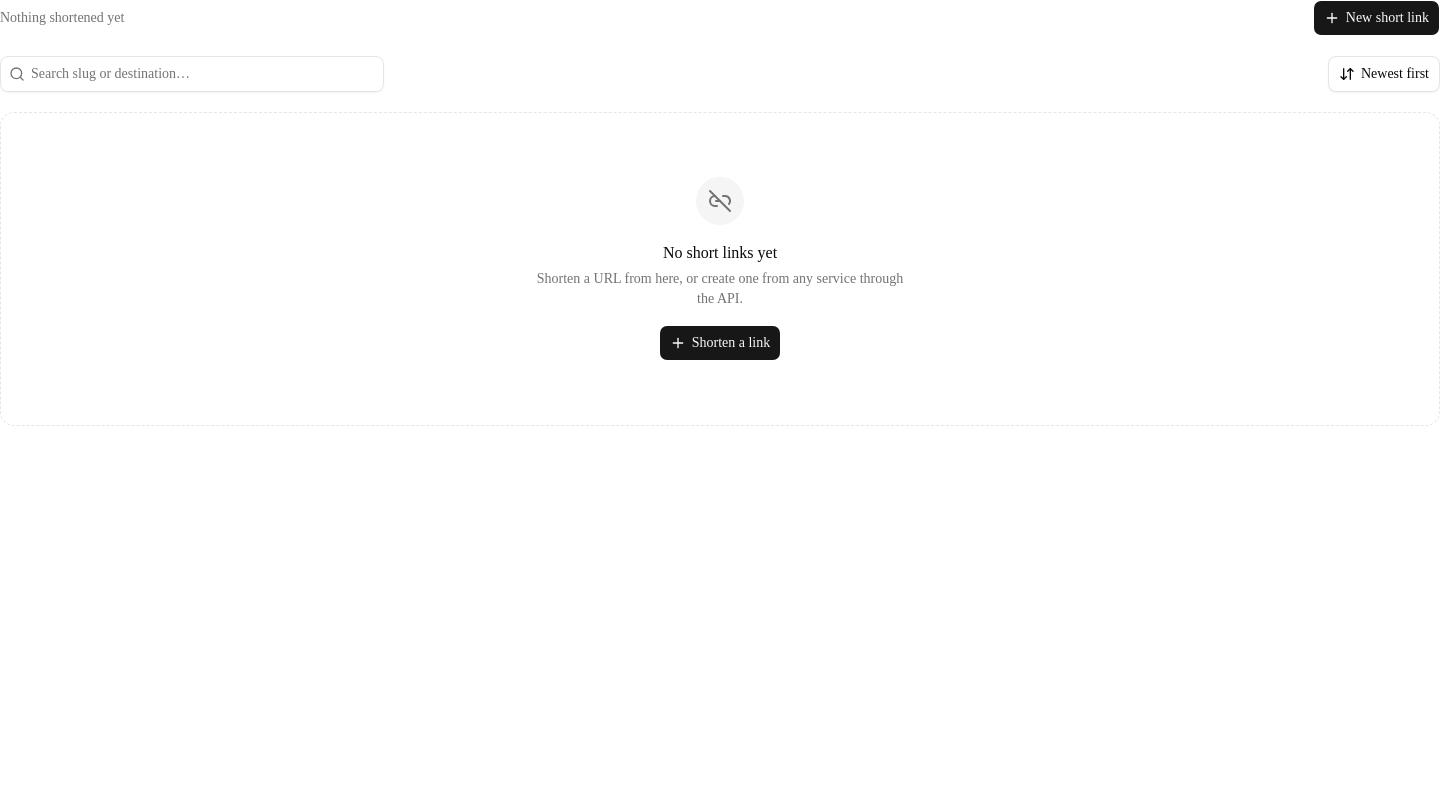
Scenario: LinksView › refuses a destination that is not an http url
This screenshot has width=1440, height=810.
Step 1. Click the button "New short link" → point(1376, 18), box [1313,0,1439,36]
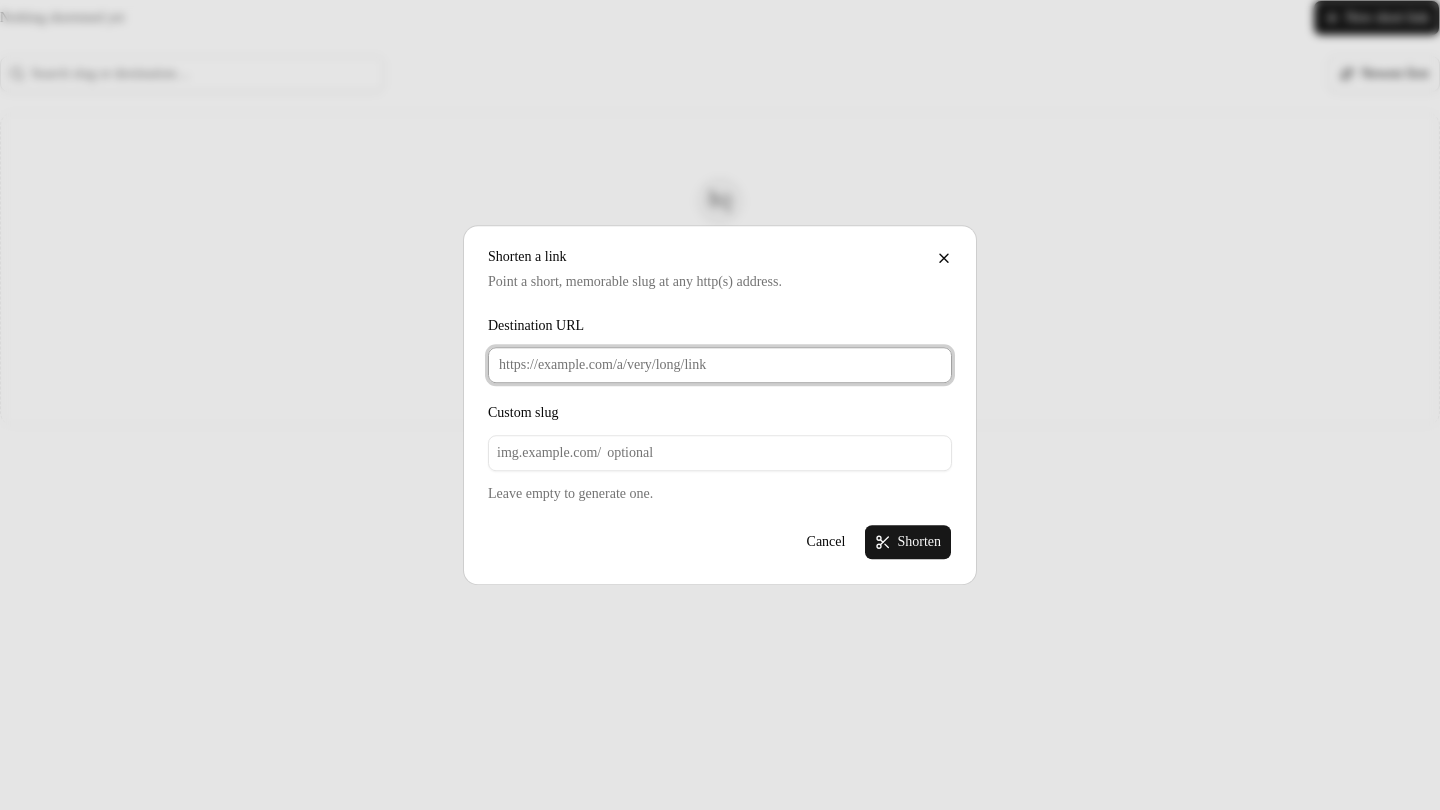
Step 2. Type "javascript:alert(1)" into the field labelled "Destination URL" → point(720, 366), box [488,348,952,384]
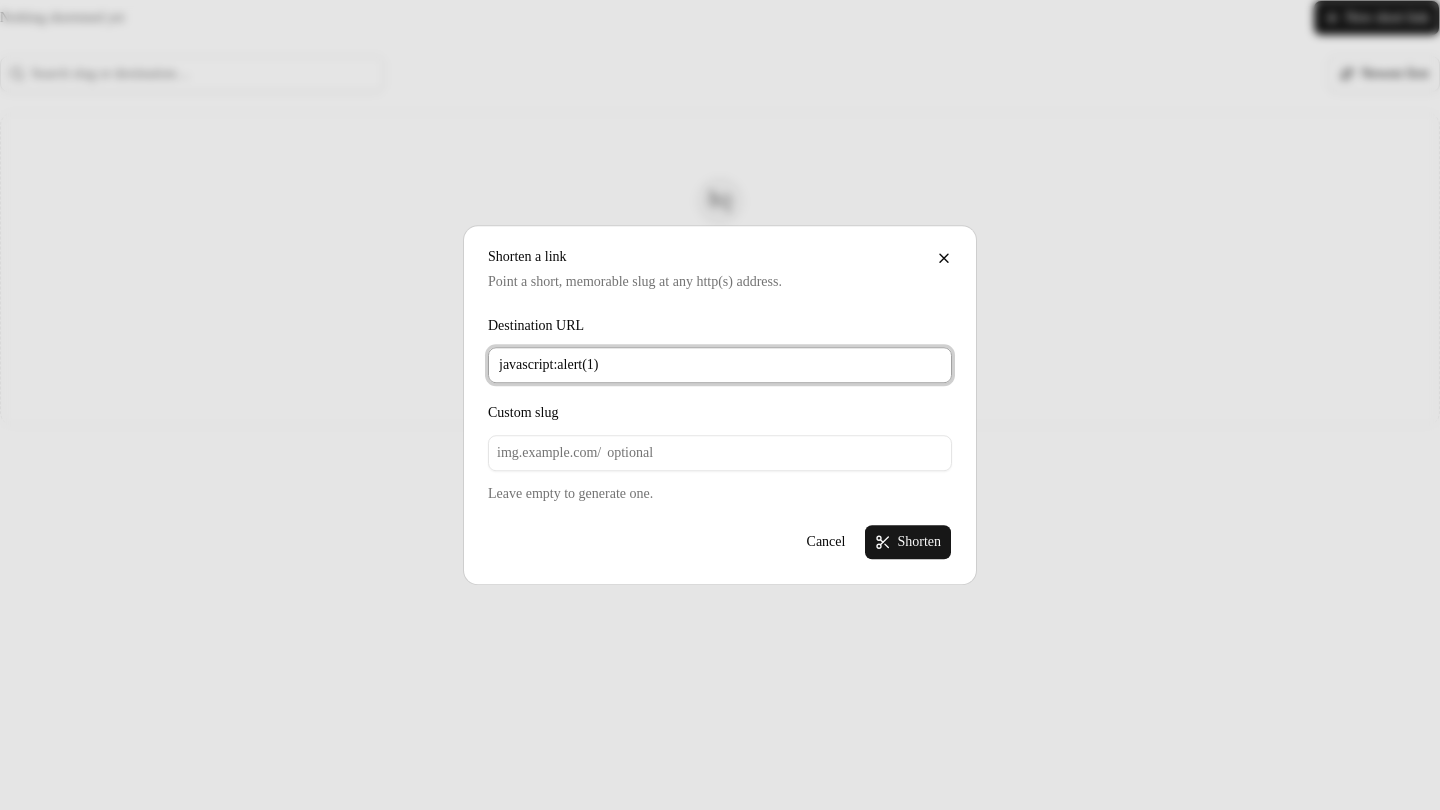
Step 3. Click the button "Shorten" → point(908, 542), box [864,524,952,560]
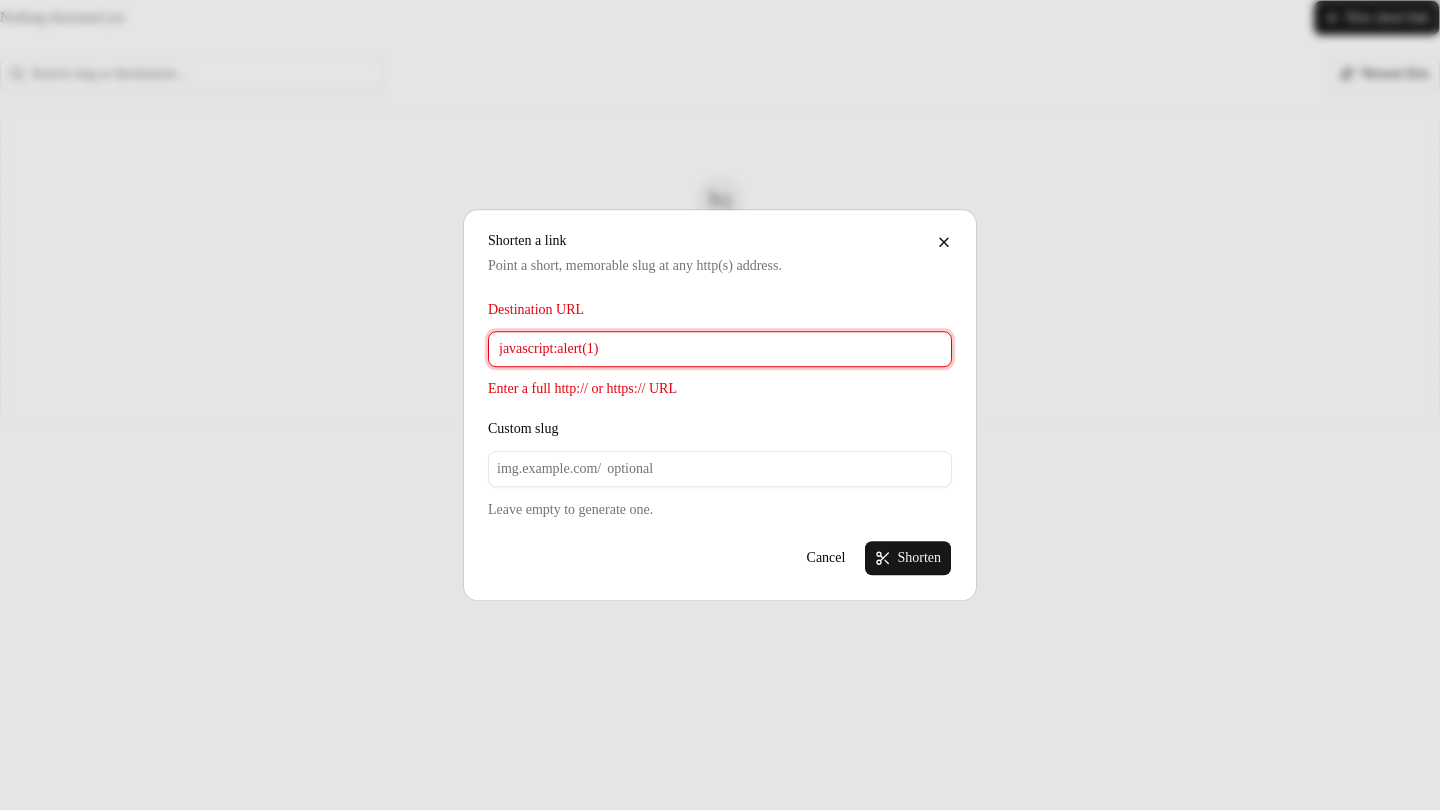
Expected: the text "Enter a full http:// or https:// URL" is shown, [488,382,677,396]
